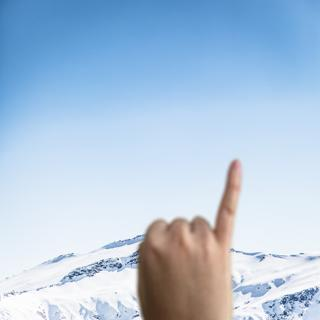Fine: (124, 152, 256, 313)
